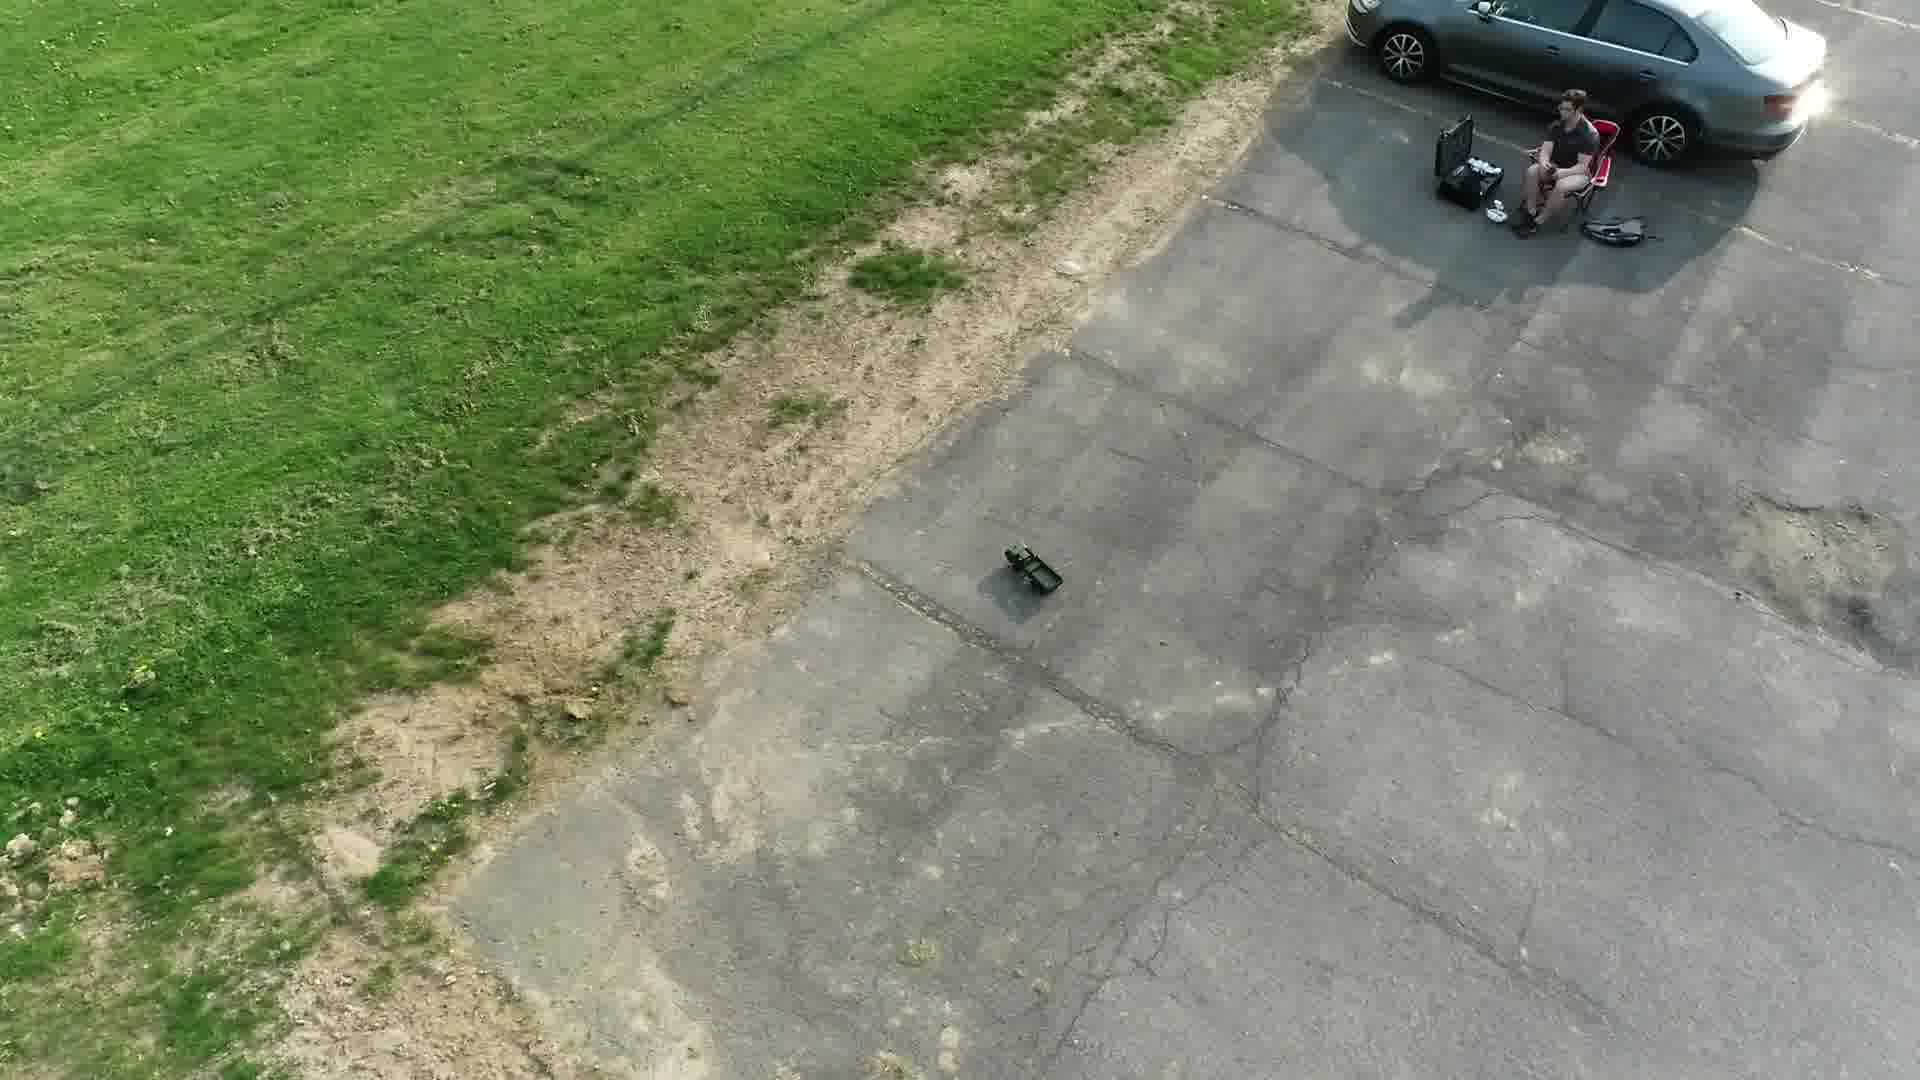transporter9: (1004, 541, 1065, 600)
